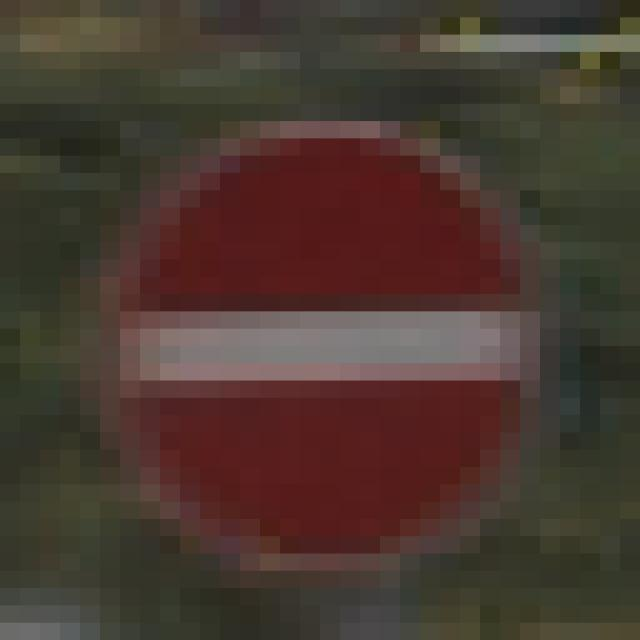No Entry: (101, 88, 541, 555)
